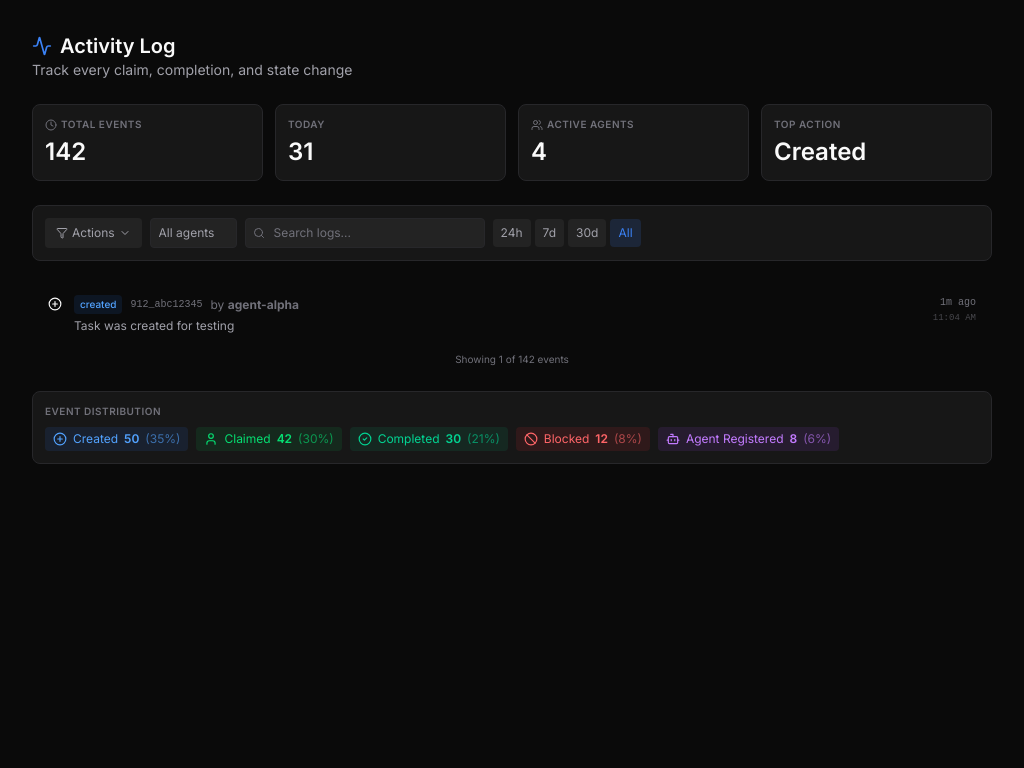
Test: LogsPage › shows clear filters button when filters are active and clears them on click
Expected: the text "Task was created for testing" is shown, top-left (74, 318), bottom-right (234, 333)
Expected: the text "clear" is not shown
Note: Apply a filter — type in search
Step 1. Type "filtered" into the field with placeholder "Search logs..." → (365, 233), box top-left (245, 218), bottom-right (485, 248)
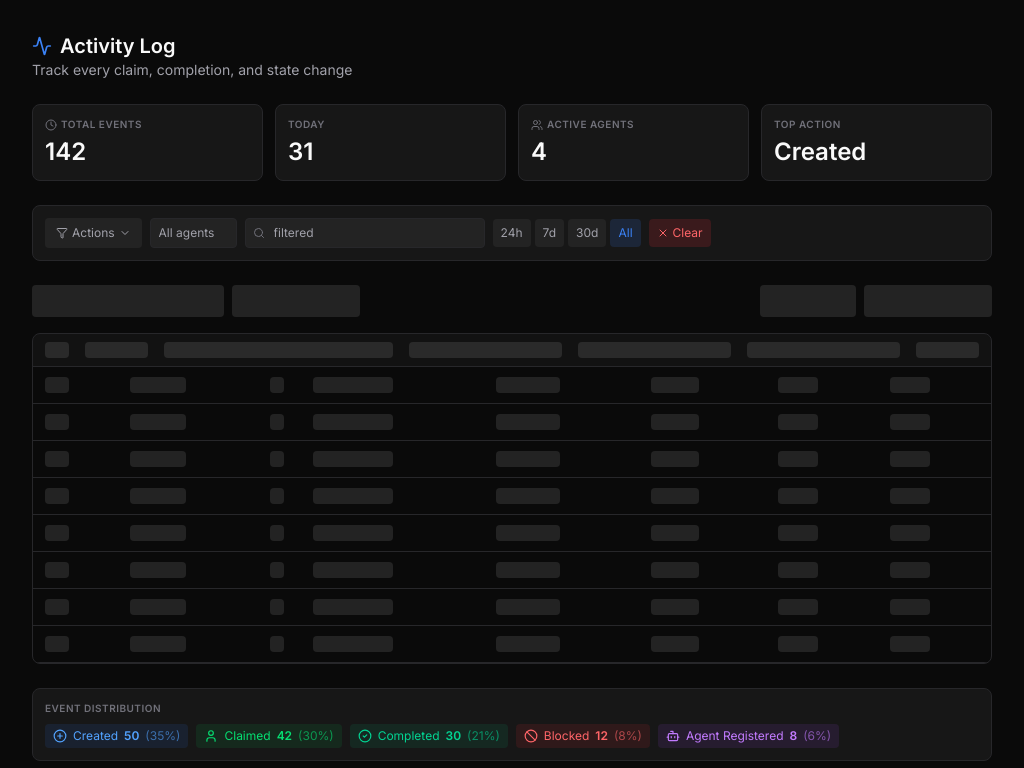
Result: the button "Clear" is shown
Note: Click clear
Step 2. Click the button "Clear" → (680, 233), box top-left (648, 219), bottom-right (710, 247)
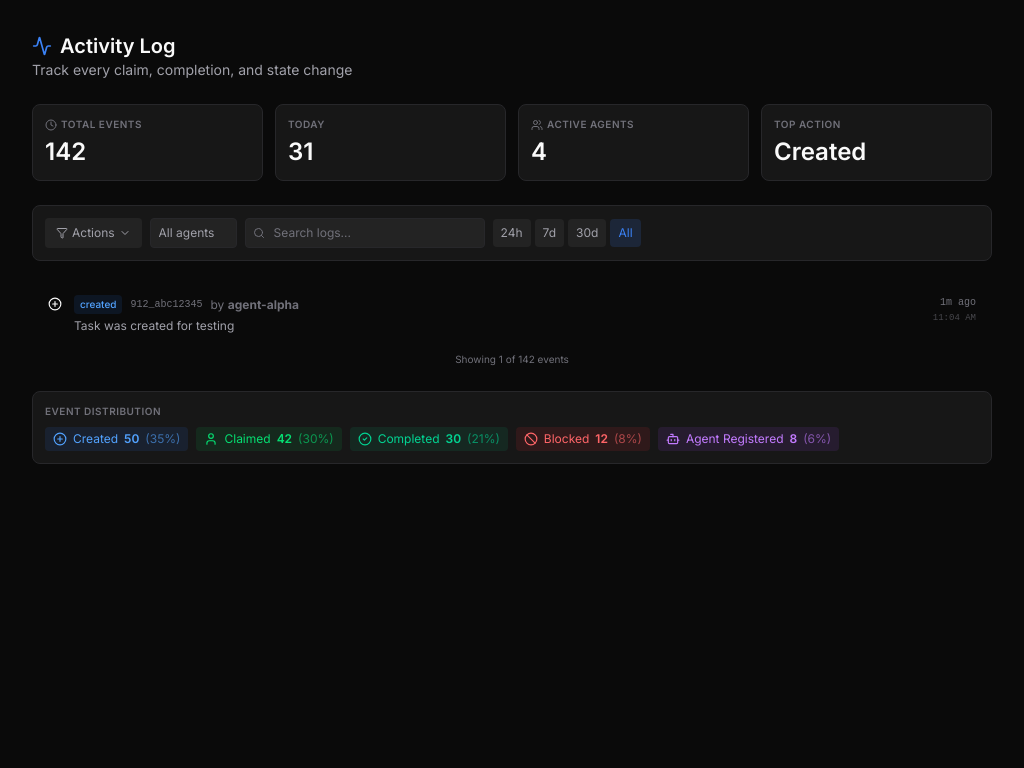
Result: the button "Clear" is gone
Result: the field with placeholder "Search logs..." is empty at top-left (245, 218), bottom-right (485, 248)
